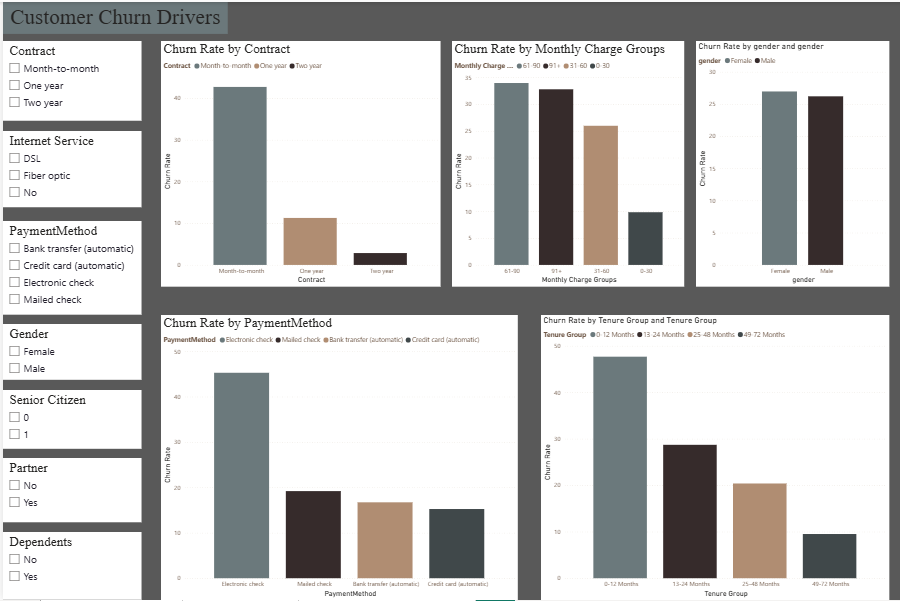

The page's visual inventory and layout, read from the dashboard file:
{"tool":"powerbi","page":{"name":"Churn Drivers","canvas":[1800,1200],"ordinal":1},"visuals":[{"type":"textbox","box":[0,0,450.7,63.9],"z":0},{"type":"columnChart","title":"Churn Rate by Contract","fields":{"Category":["Telco-Customer-Churn.Contract"],"Y":["Telco-Customer-Churn.Churn Rate"],"Series":["Telco-Customer-Churn.Contract"]},"box":[317.5,78.8,560.6,492.7],"z":1000},{"type":"columnChart","title":"Churn Rate by PaymentMethod","fields":{"Category":["Telco-Customer-Churn.PaymentMethod"],"Y":["Telco-Customer-Churn.Churn Rate"],"Series":["Telco-Customer-Churn.PaymentMethod"]},"box":[317.5,628.5,716.1,571.5],"z":2000},{"type":"columnChart","title":"Churn Rate by Monthly Charge Groups","fields":{"Category":["Telco-Customer-Churn.Monthly Charge Groups"],"Y":["Telco-Customer-Churn.Churn Rate"],"Series":["Telco-Customer-Churn.Monthly Charge Groups"]},"box":[900,78.8,466.4,492.7],"z":3000},{"type":"columnChart","fields":{"Category":["Telco-Customer-Churn.Tenure Group"],"Y":["Telco-Customer-Churn.Churn Rate"],"Series":["Telco-Customer-Churn.Tenure Group"]},"box":[1079.6,628.5,698.5,571.5],"z":4000},{"type":"columnChart","fields":{"Category":["Telco-Customer-Churn.gender"],"Y":["Telco-Customer-Churn.Churn Rate"],"Series":["Telco-Customer-Churn.gender"]},"box":[1390.5,78.8,387.6,492.7],"z":5000},{"type":"slicer","fields":{"Values":["Telco-Customer-Churn.Contract"]},"box":[0,78.8,278.1,159.9],"z":6000},{"type":"slicer","fields":{"Values":["Telco-Customer-Churn.InternetService"]},"box":[0,258.4,278.1,153.3],"z":7000},{"type":"slicer","fields":{"Values":["Telco-Customer-Churn.PaymentMethod"]},"box":[0,440.1,278.1,188.3],"z":8000},{"type":"slicer","fields":{"Values":["Telco-Customer-Churn.gender"]},"box":[0,646,278.1,111.7],"z":9000},{"type":"slicer","fields":{"Values":["Telco-Customer-Churn.SeniorCitizen"]},"box":[0,779.6,278.1,118.2],"z":10000},{"type":"slicer","fields":{"Values":["Telco-Customer-Churn.Partner"]},"box":[0,915.3,278.1,129.2],"z":11000},{"type":"slicer","fields":{"Values":["Telco-Customer-Churn.Dependents"]},"box":[0,1064.2,278.1,135.8],"z":12000}]}

Visuals, with their boxes in screenshot pixels (x1, y1, x2, y2), scaled from the page's 1800x1200 canvas onto the 900x601 screenshot:
textbox: bbox=(0, 0, 225, 32)
"Churn Rate by Contract" columnChart: bbox=(159, 39, 439, 286)
"Churn Rate by PaymentMethod" columnChart: bbox=(159, 315, 517, 600)
"Churn Rate by Monthly Charge Groups" columnChart: bbox=(450, 39, 683, 286)
columnChart - Telco-Customer-Churn.Tenure Group x Telco-Customer-Churn.Churn Rate: bbox=(540, 315, 889, 600)
columnChart - Telco-Customer-Churn.gender x Telco-Customer-Churn.Churn Rate: bbox=(695, 39, 889, 286)
slicer - Telco-Customer-Churn.Contract: bbox=(0, 39, 139, 120)
slicer - Telco-Customer-Churn.InternetService: bbox=(0, 129, 139, 206)
slicer - Telco-Customer-Churn.PaymentMethod: bbox=(0, 220, 139, 315)
slicer - Telco-Customer-Churn.gender: bbox=(0, 324, 139, 379)
slicer - Telco-Customer-Churn.SeniorCitizen: bbox=(0, 390, 139, 450)
slicer - Telco-Customer-Churn.Partner: bbox=(0, 458, 139, 523)
slicer - Telco-Customer-Churn.Dependents: bbox=(0, 533, 139, 600)
